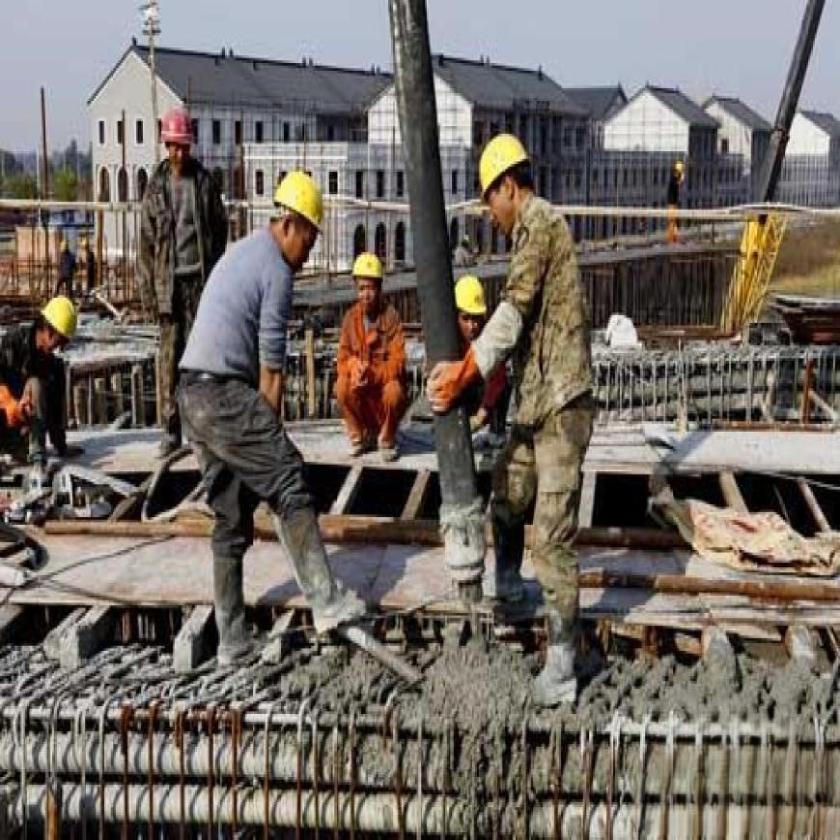Con_casco: (268, 156, 333, 279), (473, 130, 540, 234), (348, 238, 391, 316)
